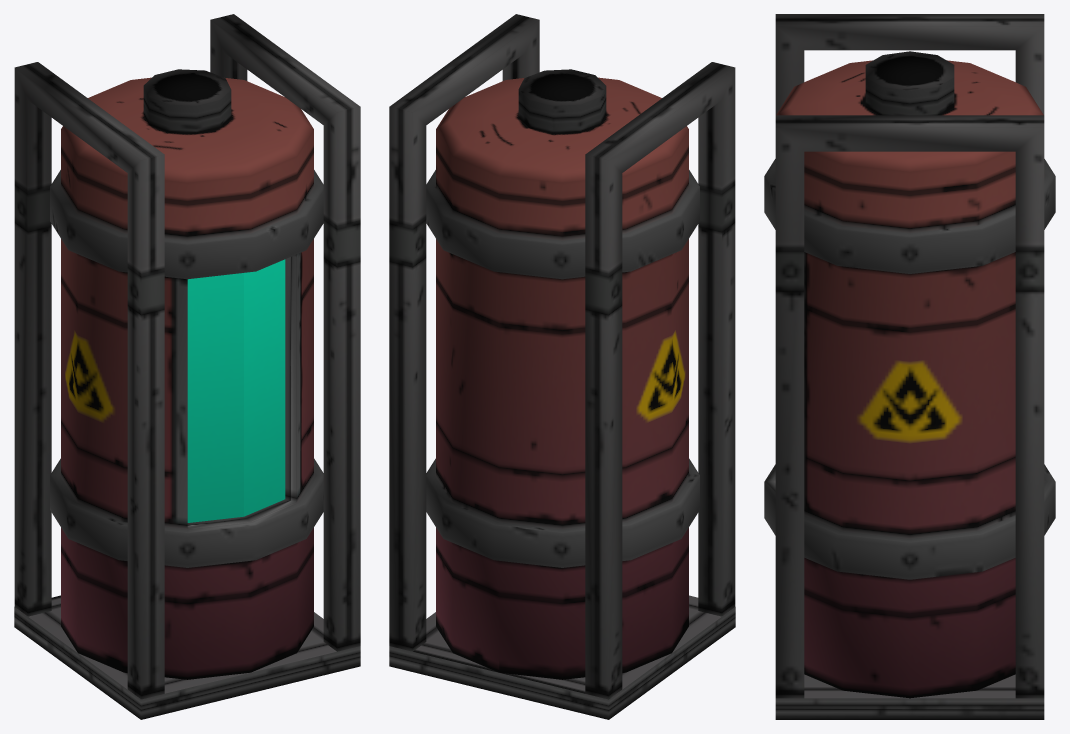
The model's file is mod_prop_arcane_tank01.fbx.
The picture shows the model from 3 angles, left to right: view 1: azimuth 30°, elevation 25°; view 2: azimuth 150°, elevation 25°; view 3: azimuth 270°, elevation 25°; orthographic projection. The views are drawn at different scales.
Visible parts, largest first — view 1: mod_prop_arcane_tank01, mod_prop_arcane_tank01_arcane; view 2: mod_prop_arcane_tank01; view 3: mod_prop_arcane_tank01.
Part boxes in pixels (x1,y1,x2,y2): mod_prop_arcane_tank01: (14,14,360,719); mod_prop_arcane_tank01_arcane: (187,259,285,522); mod_prop_arcane_tank01: (389,14,735,719); mod_prop_arcane_tank01: (764,14,1055,719).
Size of the model in its own units: 112 by 251 by 112.
